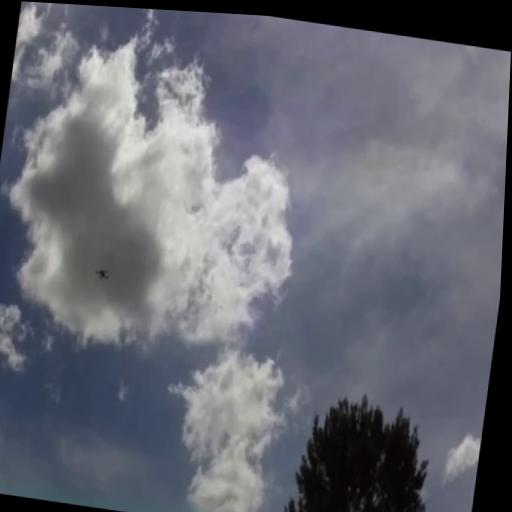drones: (93, 263, 111, 284)
